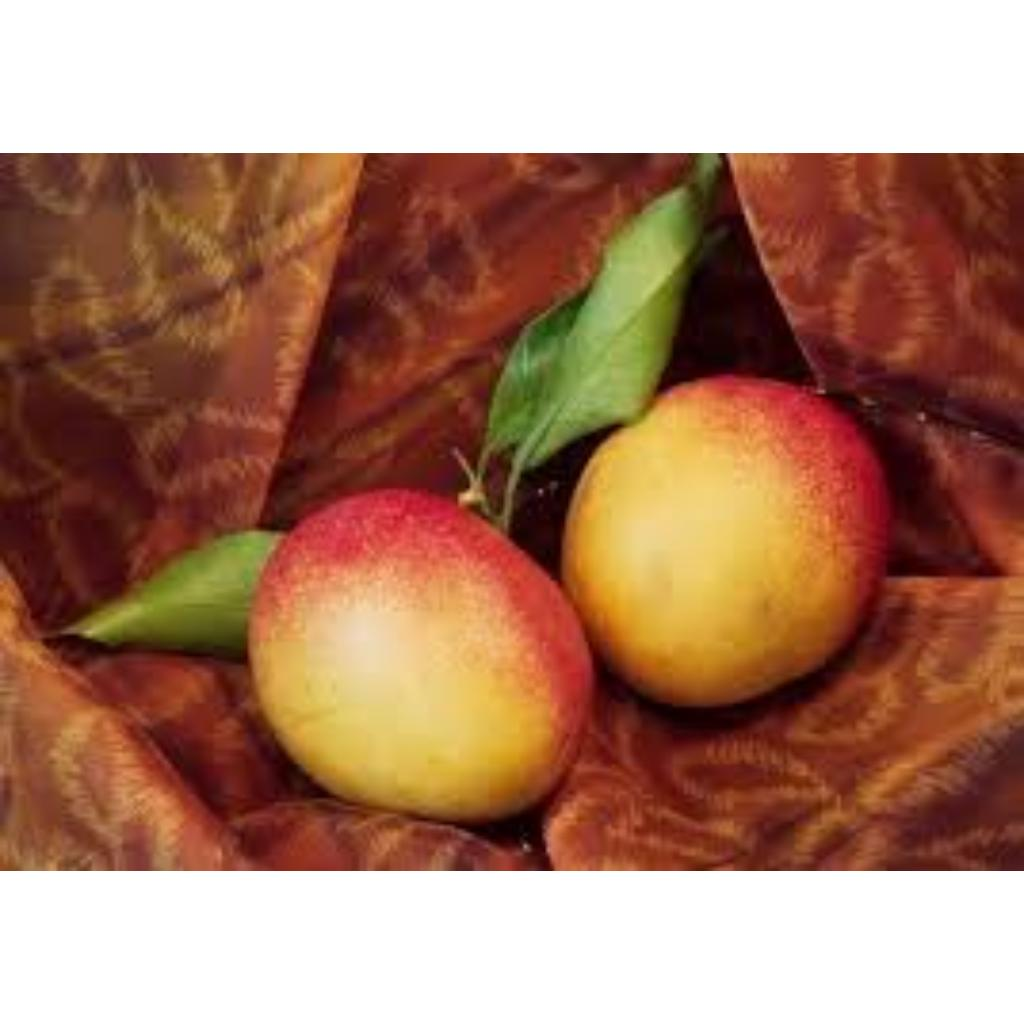mango: (245, 489, 596, 829), (569, 372, 897, 690)
